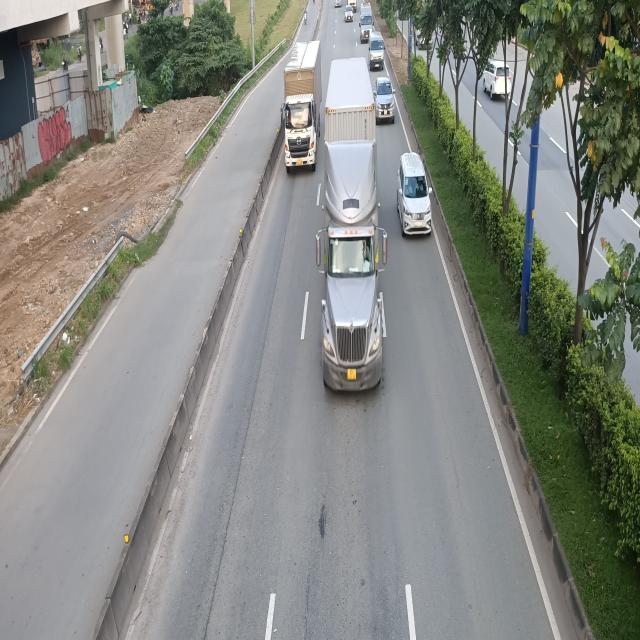car: (398, 152, 433, 238), (374, 76, 396, 124)
container: (322, 63, 392, 396)
truck: (279, 39, 323, 171)
van: (369, 34, 386, 71), (359, 3, 374, 43)
